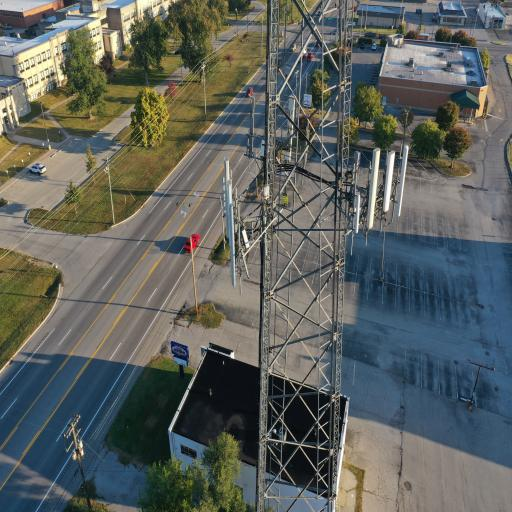supporting_tower: (210, 0, 422, 512)
